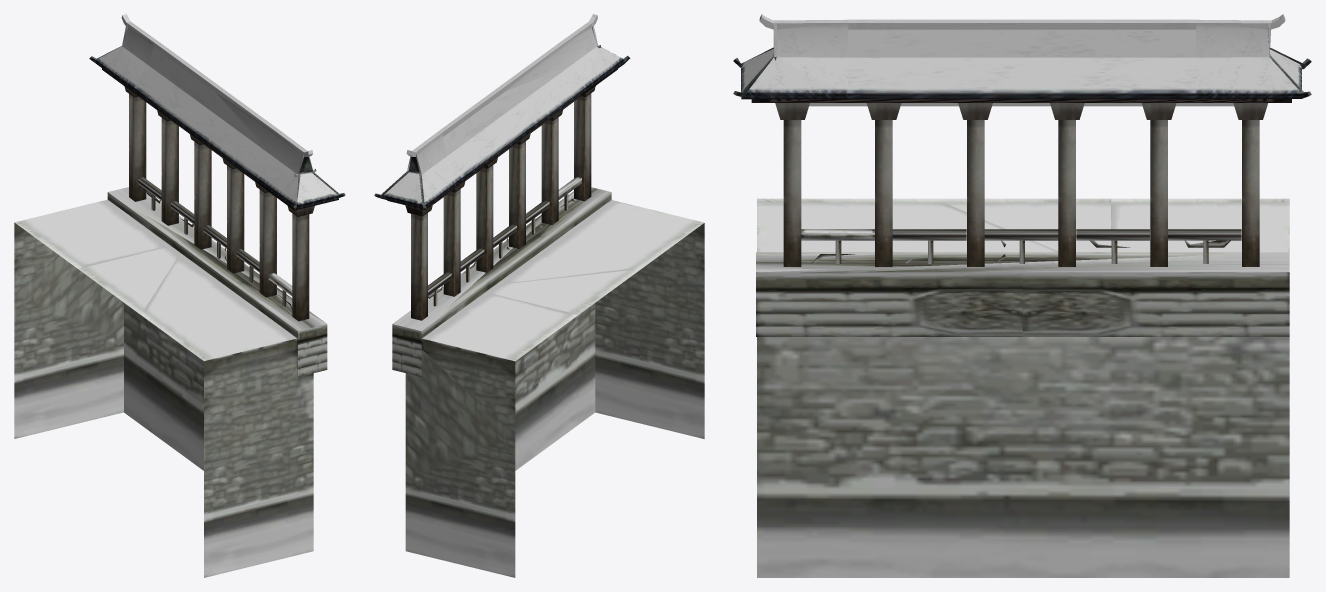
The model's file is general_obj_watchtower01_lod_01.fbx.
3 renders of one model, left to right at view 1: azimuth 30°, elevation 25°; view 2: azimuth 150°, elevation 25°; view 3: azimuth 270°, elevation 25°, orthographic. The views are drawn at different scales.
Visible parts, largest first — view 1: general_obj_watchtower02, general_obj_watchtower01; view 2: general_obj_watchtower02, general_obj_watchtower01; view 3: general_obj_watchtower02, general_obj_watchtower01.
Part boxes in pixels (<box>): general_obj_watchtower02: <box>14,199,313,577</box>; general_obj_watchtower01: <box>89,14,345,376</box>; general_obj_watchtower02: <box>405,200,704,577</box>; general_obj_watchtower01: <box>374,14,630,376</box>; general_obj_watchtower02: <box>757,198,1289,577</box>; general_obj_watchtower01: <box>733,14,1311,336</box>.
Size of the model in its own units: 7.37 by 21.01 by 19.63.
